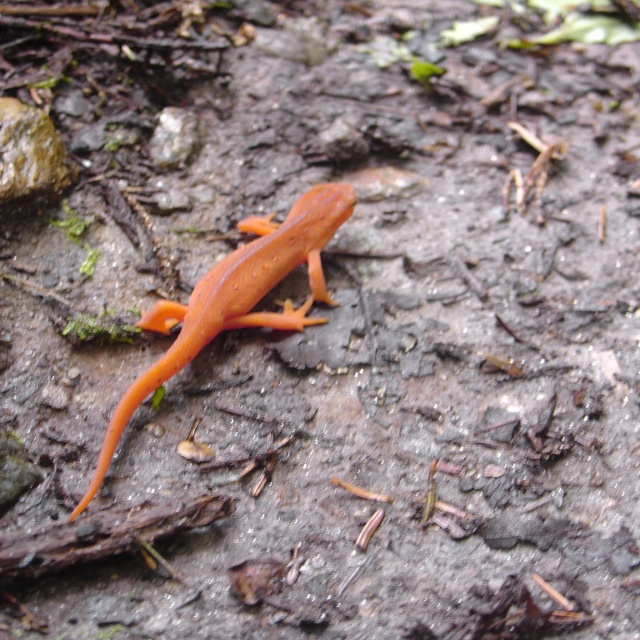Lizard: (67, 185, 355, 522)
